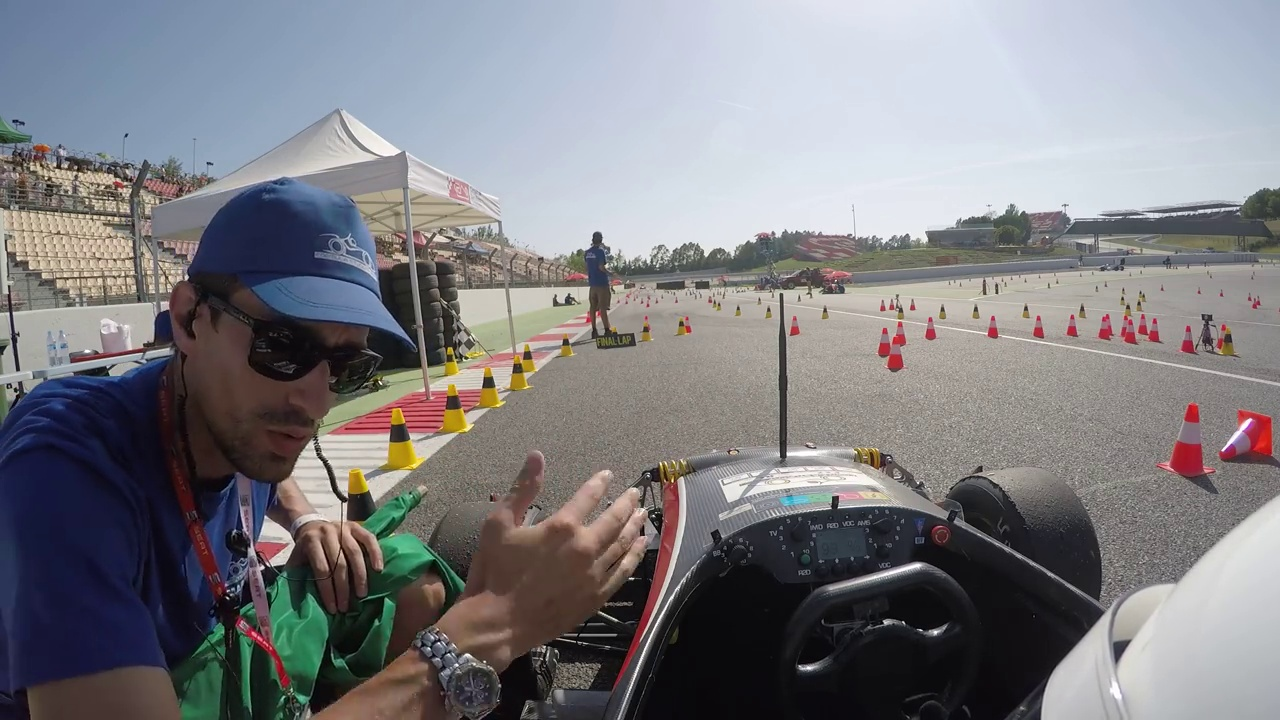Cone: (1165, 402, 1212, 472), (386, 404, 417, 472), (440, 385, 471, 435), (477, 367, 503, 408), (504, 353, 531, 390), (886, 335, 904, 372), (520, 340, 540, 371), (876, 325, 895, 356), (893, 317, 912, 347), (923, 317, 941, 341)
